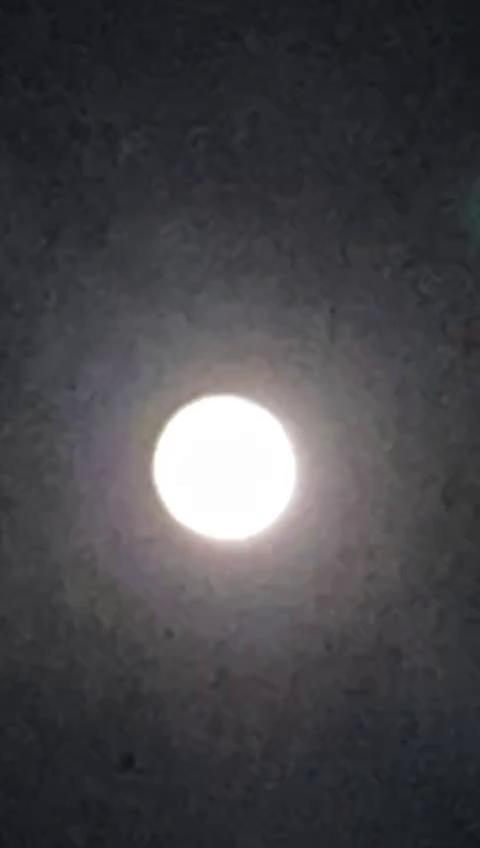moon: (137, 376, 309, 568)
